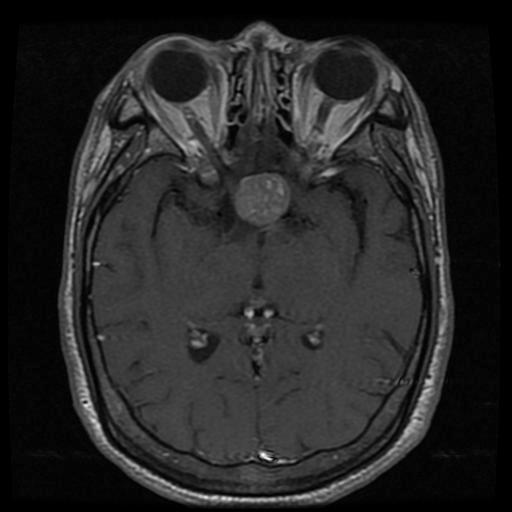Tumour-Pituitary: (229, 171, 295, 232)
